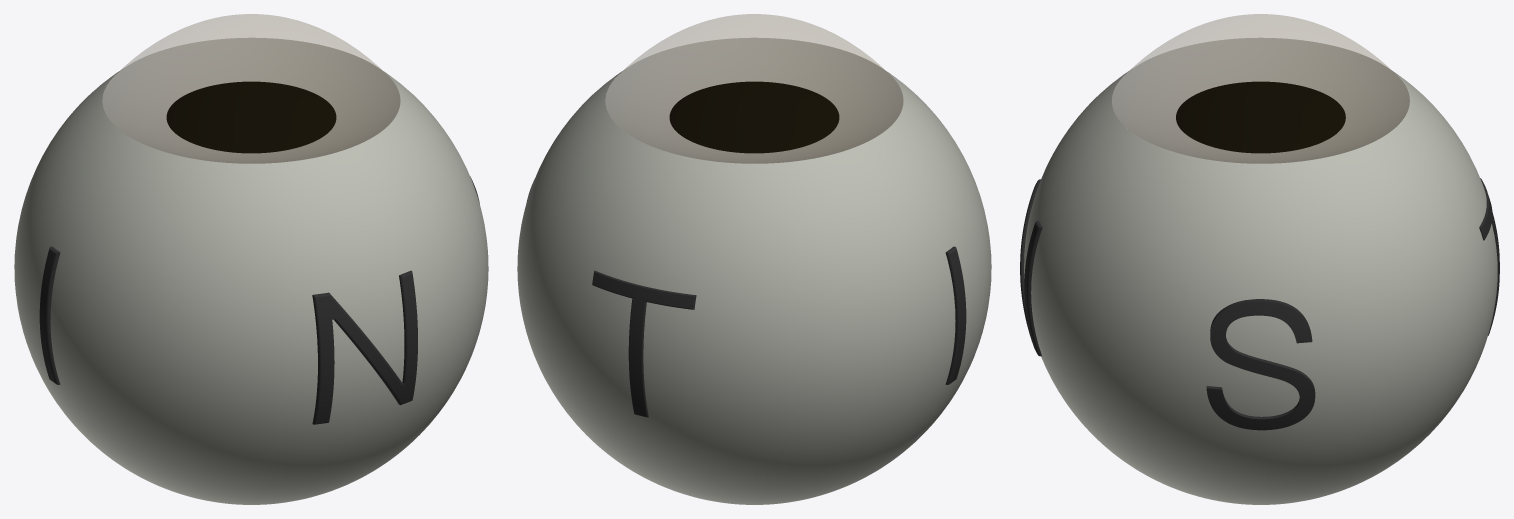
Rendered from eyeball_od.gltf.
The picture shows the model from 3 angles, left to right: view 1: azimuth 30°, elevation 25°; view 2: azimuth 150°, elevation 25°; view 3: azimuth 270°, elevation 25°; orthographic projection.
Size of the model in its own units: 0.3673 by 0.38 by 0.3643.
